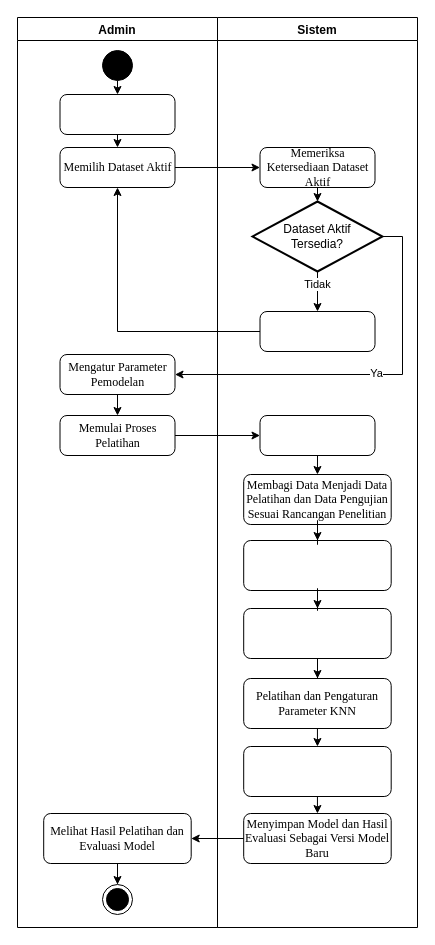
Image size: 435x945. Some labels were removed from this diagram. The shapes that lost their labels are listed below. From the top down, each one's centre as x and y in pixels, then its label:
At point 117,114: "Login".
At point 317,331: "Menampilkan Pesan Bahwa Dataset Belum Tersedia".
At point 317,435: "Melakukan Preprocessing Data".
At point 317,565: "Seleksi Fitur Menggunakan SFS dengan KNN sebagai Evaluator".
At point 317,633: "Menentukan Kombinasi Fitur Terpilih".
At point 317,771: "Evaluasi Model Menggunakan Data Pengujian".
